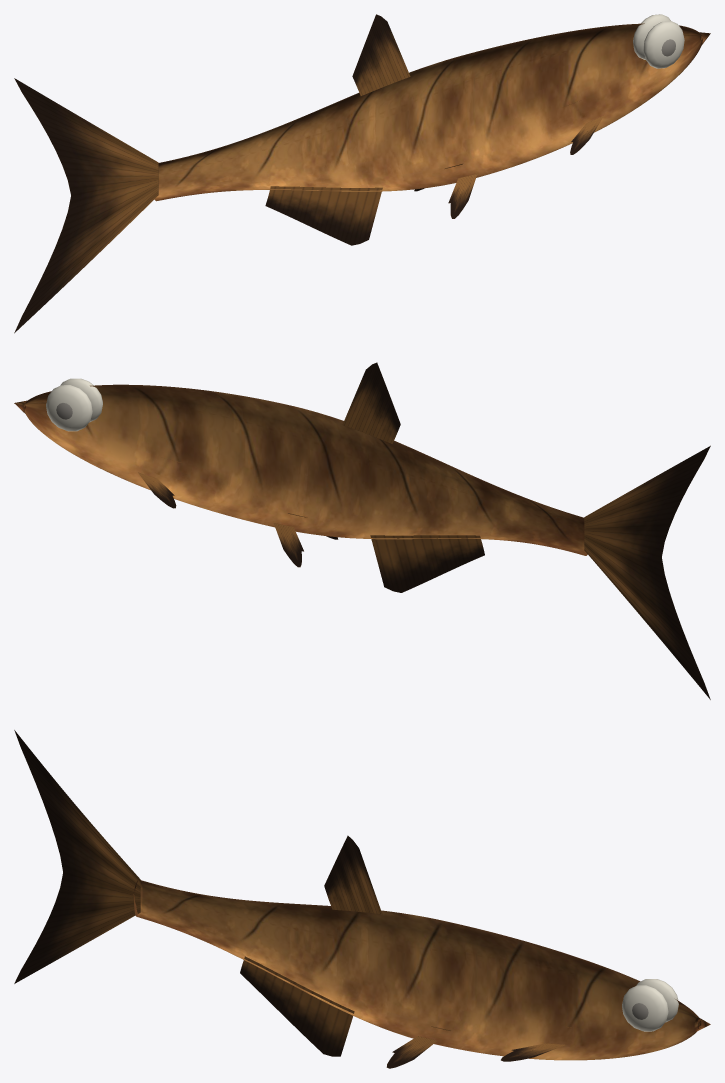
Rendered from fish_bleak_cooked.gltf.
3 renders of one model, top to bottom at view 1: azimuth 30°, elevation 25°; view 2: azimuth 150°, elevation 25°; view 3: azimuth 330°, elevation 25°, orthographic.
Visible parts, largest first — view 1: fish_bleak_cooked; view 2: fish_bleak_cooked; view 3: fish_bleak_cooked.
Part boxes in pixels (box(x1,y1,x2,y2)): fish_bleak_cooked: box(14, 14, 710, 333); fish_bleak_cooked: box(14, 362, 710, 699); fish_bleak_cooked: box(14, 730, 710, 1068).
Size of the model in its own units: 0.1507 by 0.0528 by 0.0182.
6 materials, 4 textured.
